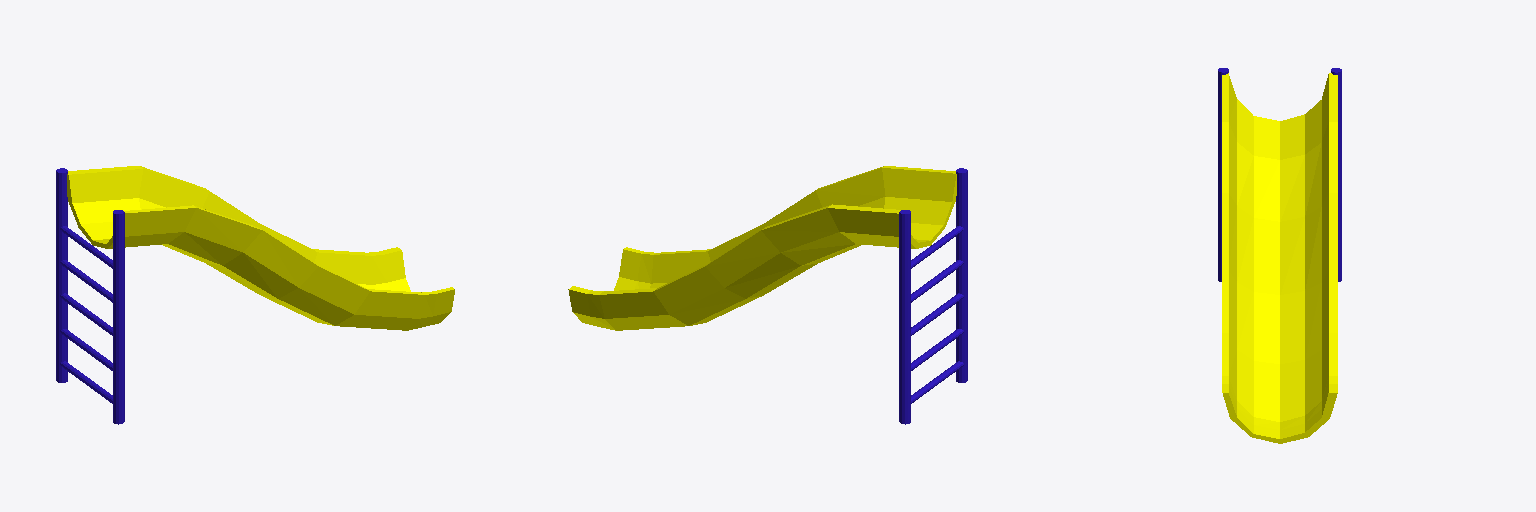
3 views of the same model, side by side, from view 1: azimuth 30°, elevation 25°; view 2: azimuth 150°, elevation 25°; view 3: azimuth 270°, elevation 25° (orthographic).
Parts seen in each view (by area): view 1: mesh03, mesh02, mesh01; view 2: mesh03, mesh01, mesh02; view 3: mesh03, mesh01, mesh02.
Boxes of the visible parts, <box> form: mesh03: <box>67,166,454,330</box>; mesh02: <box>113,210,124,424</box>; mesh01: <box>56,168,67,382</box>; mesh03: <box>568,166,956,330</box>; mesh01: <box>899,210,910,424</box>; mesh02: <box>956,168,967,382</box>; mesh03: <box>1222,73,1337,443</box>; mesh01: <box>1331,68,1341,281</box>; mesh02: <box>1218,68,1228,281</box>.
Size of the model in its own units: 50.66 by 29.8 by 16.02.
2 materials, 2 textured.